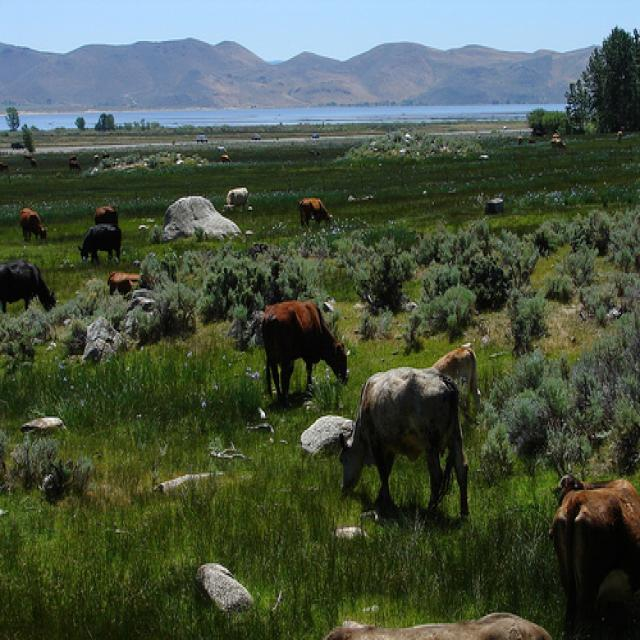Vehicle: (221, 154, 231, 164), (12, 143, 24, 149), (312, 134, 319, 138)
